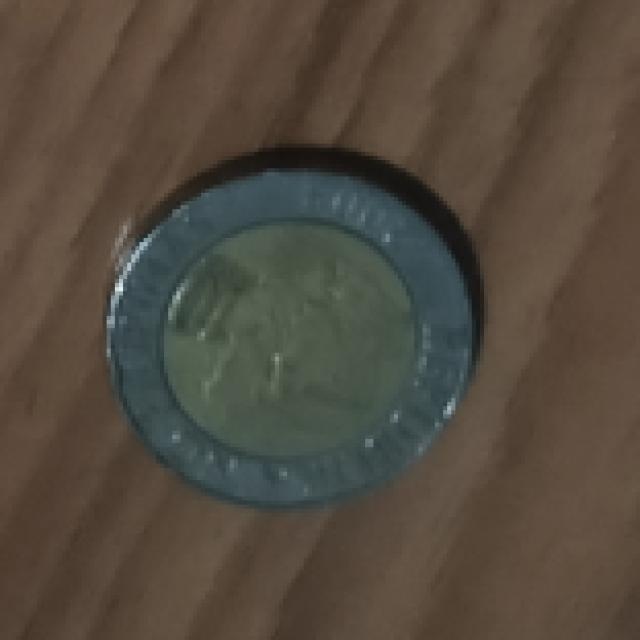10_peso: (107, 168, 476, 505)
